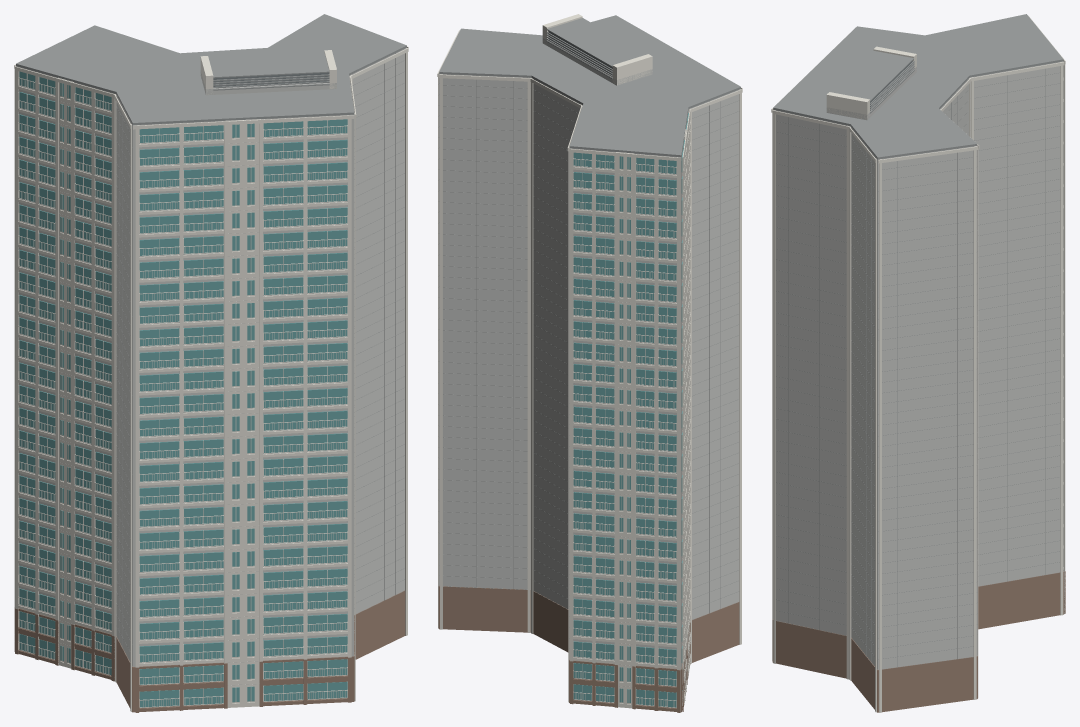
Rendered from bespoke-jamsil-els-170.glb.
3 renders of one model, left to right at view 1: azimuth 30°, elevation 25°; view 2: azimuth 150°, elevation 25°; view 3: azimuth 270°, elevation 25°, orthographic. The views are drawn at different scales.
Visible parts, largest first — view 1: Els170_editable_Els170_turquoise_balcony_glazing, Els170_editable_Els170_light_grey_solid_wall, Els170_white_exact_chunk_2, Els170_white_exact_chunk_1, Els170_white_exact_chunk_3, Els170_editable_Els170_modest_grey_flat_roof_caps, Els170_editable_Els170_muted_ground_wall, Els170_editable_Els170_narrow_charcoal_service_strips; view 2: Els170_editable_Els170_light_grey_solid_wall, Els170_editable_Els170_turquoise_balcony_glazing, Els170_white_exact_chunk_0, Els170_editable_Els170_modest_grey_flat_roof_caps, Els170_white_exact_chunk_1, Els170_editable_Els170_muted_ground_wall, Els170_white_exact_chunk_3, Els170_white_exact_chunk_2; view 3: Els170_editable_Els170_light_grey_solid_wall, Els170_editable_Els170_modest_grey_flat_roof_caps, Els170_white_exact_chunk_3, Els170_editable_Els170_muted_ground_wall, Els170_white_exact_chunk_0.
Boxes of the visible parts, <box> form: Els170_editable_Els170_turquoise_balcony_glazing: <box>19,71,347,707</box>; Els170_editable_Els170_light_grey_solid_wall: <box>16,48,406,685</box>; Els170_white_exact_chunk_2: <box>14,66,303,711</box>; Els170_white_exact_chunk_1: <box>14,64,111,675</box>; Els170_white_exact_chunk_3: <box>133,46,408,706</box>; Els170_editable_Els170_modest_grey_flat_roof_caps: <box>16,14,406,661</box>; Els170_editable_Els170_muted_ground_wall: <box>14,590,405,712</box>; Els170_editable_Els170_narrow_charcoal_service_strips: <box>213,72,329,86</box>; Els170_editable_Els170_light_grey_solid_wall: <box>439,38,740,687</box>; Els170_editable_Els170_turquoise_balcony_glazing: <box>573,113,688,707</box>; Els170_white_exact_chunk_0: <box>570,148,676,708</box>; Els170_editable_Els170_modest_grey_flat_roof_caps: <box>438,15,740,648</box>; Els170_white_exact_chunk_1: <box>569,128,690,712</box>; Els170_editable_Els170_muted_ground_wall: <box>438,585,739,712</box>; Els170_white_exact_chunk_3: <box>437,14,742,702</box>; Els170_white_exact_chunk_2: <box>682,89,742,684</box>; Els170_editable_Els170_light_grey_solid_wall: <box>773,61,1063,669</box>; Els170_editable_Els170_modest_grey_flat_roof_caps: <box>773,14,1063,669</box>; Els170_white_exact_chunk_3: <box>771,33,1064,712</box>; Els170_editable_Els170_muted_ground_wall: <box>772,571,1065,712</box>; Els170_white_exact_chunk_0: <box>1049,41,1065,613</box>.
Bounding box in the file's own units: 38.63 × 71.15 × 33.11.
